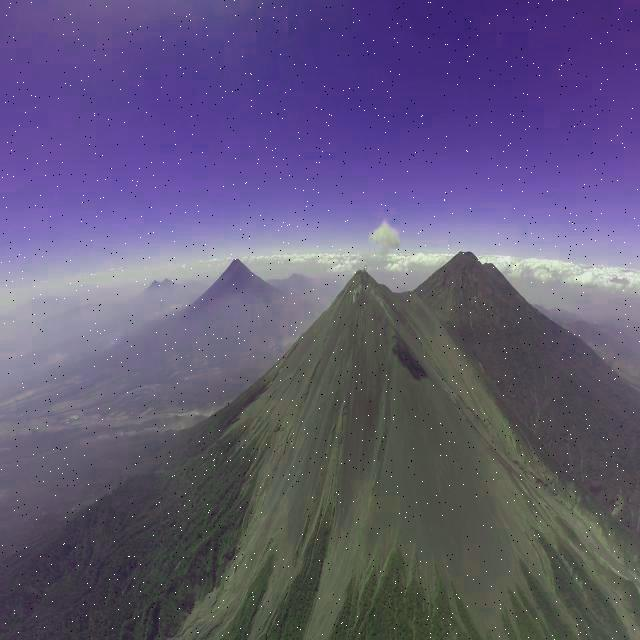Plume: (368, 220, 399, 250)
Summit: (332, 268, 394, 303)
